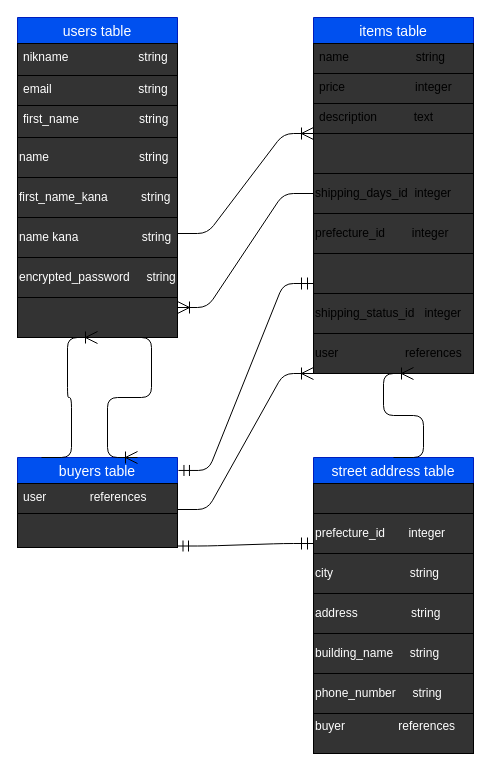
Image size: 491x771. Some labels were removed from this diagram. Each missing label, with the centre of its shape:
birth_day dade: point (97, 317)
category_id integer: point (393, 273)
item references: point (97, 530)
post_code string: point (393, 498)
shipping_cost_id integer: point (393, 153)
